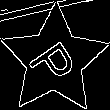P_NE: (25, 31, 84, 89)
